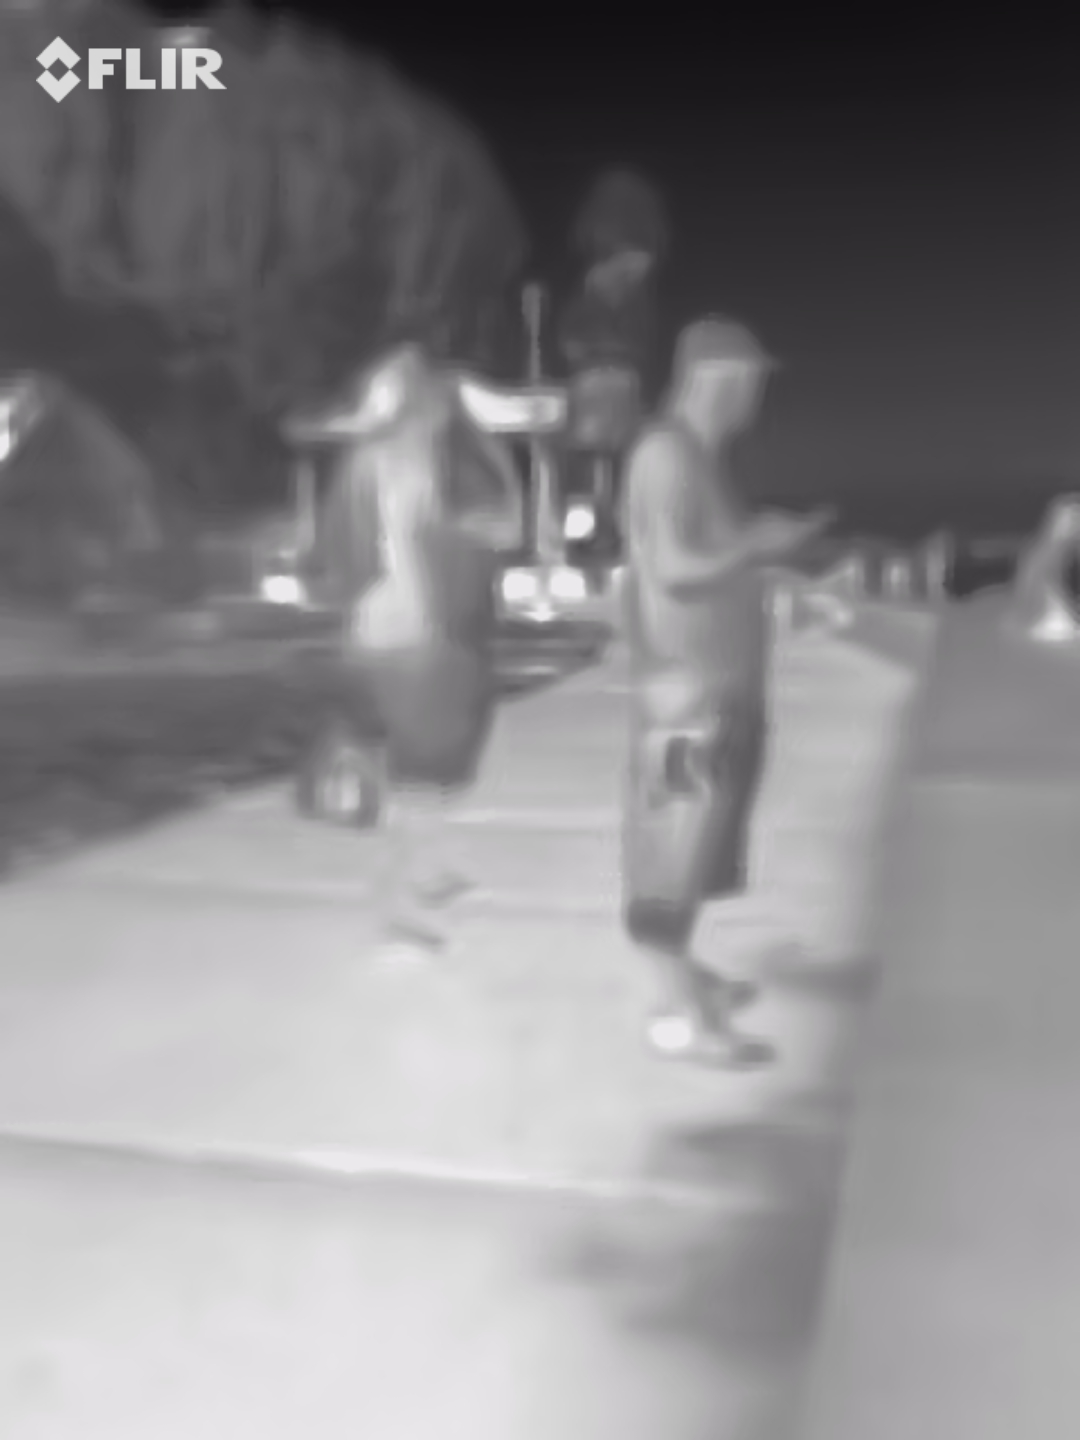head: (665, 307, 774, 447)
